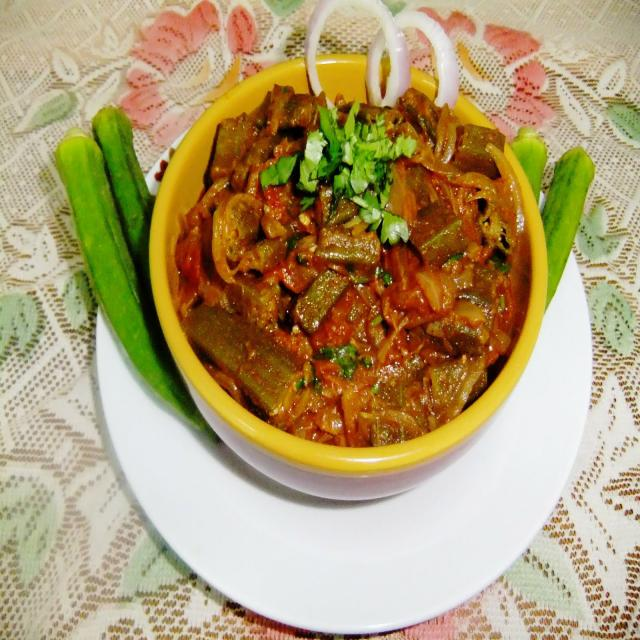BhindiMasala: (176, 87, 524, 448)
